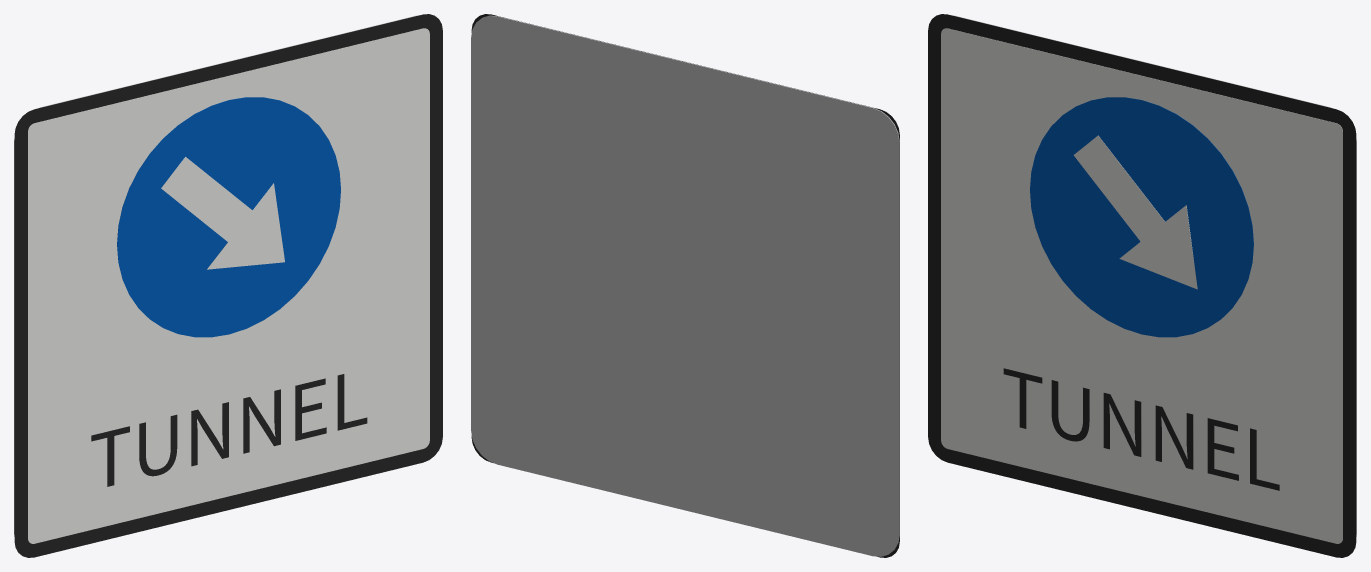
3 views of the same model, side by side, from view 1: azimuth 30°, elevation 25°; view 2: azimuth 150°, elevation 25°; view 3: azimuth 330°, elevation 25° (orthographic).
Parts seen in each view (by area): view 1: C117-B21c2_r01, C117-B21c2_d02, C117-B21c2_r00, C117-B21c2_p03, C117-B21c2_txt04, C117-B21c2_dos; view 2: C117-B21c2_dos, C117-B21c2_r00; view 3: C117-B21c2_r01, C117-B21c2_d02, C117-B21c2_r00, C117-B21c2_p03, C117-B21c2_txt04, C117-B21c2_dos.
Part boxes in pixels (x1=…): C117-B21c2_r01: x1=28, y1=28, x2=429, y2=543; C117-B21c2_d02: x1=117, y1=97, x2=340, y2=337; C117-B21c2_r00: x1=14, y1=14, x2=442, y2=557; C117-B21c2_p03: x1=161, y1=157, x2=284, y2=269; C117-B21c2_txt04: x1=91, y1=374, x2=367, y2=486; C117-B21c2_dos: x1=14, y1=15, x2=416, y2=536; C117-B21c2_dos: x1=471, y1=15, x2=899, y2=556; C117-B21c2_r00: x1=471, y1=14, x2=899, y2=557; C117-B21c2_r01: x1=941, y1=28, x2=1342, y2=543; C117-B21c2_d02: x1=1030, y1=97, x2=1253, y2=337; C117-B21c2_r00: x1=928, y1=14, x2=1356, y2=557; C117-B21c2_p03: x1=1073, y1=135, x2=1197, y2=289; C117-B21c2_txt04: x1=1003, y1=368, x2=1279, y2=490; C117-B21c2_dos: x1=954, y1=15, x2=1356, y2=536.
Bounding box in the file's own units: 0.65 × 0.65 × 0.0033.
